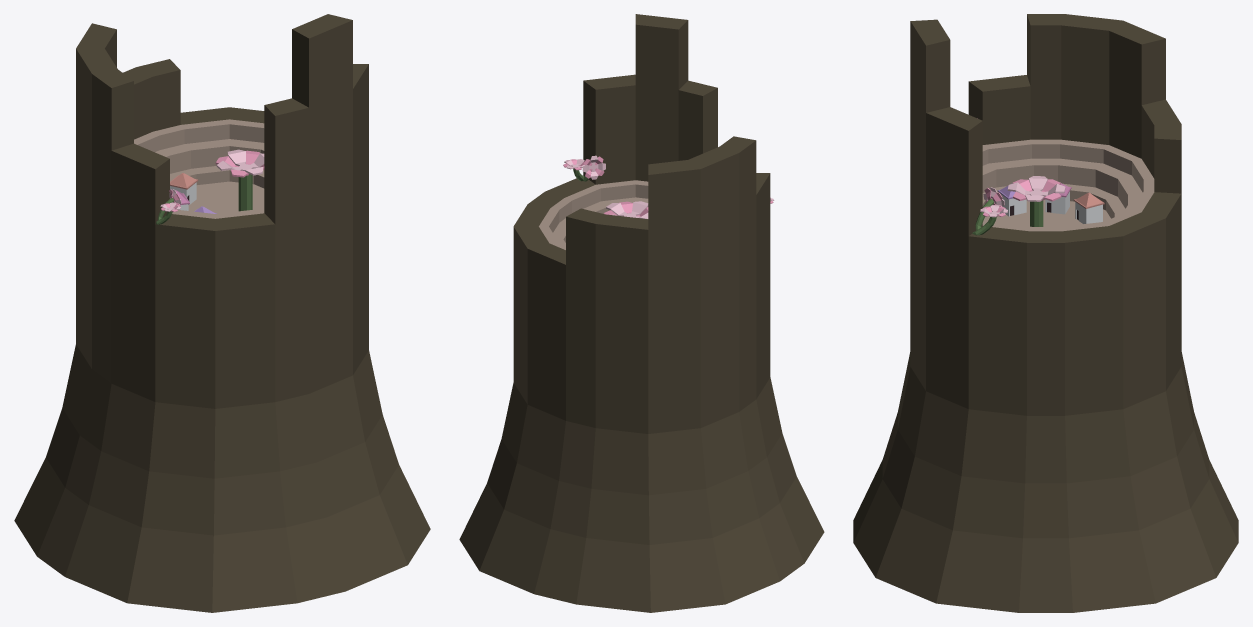
The model's file is FairyGarden.fbx.
3 renders of one model, left to right at view 1: azimuth 30°, elevation 25°; view 2: azimuth 150°, elevation 25°; view 3: azimuth 270°, elevation 25°, orthographic. The views are drawn at different scales.
Visible parts, largest first — view 1: FairyGarden; view 2: FairyGarden; view 3: FairyGarden.
Boxes of the visible parts, <box> form: FairyGarden: <box>14,14,430,612</box>; FairyGarden: <box>459,14,824,612</box>; FairyGarden: <box>853,14,1238,612</box>.
Bounding box in the file's own units: 1073 × 1593 × 1073.
